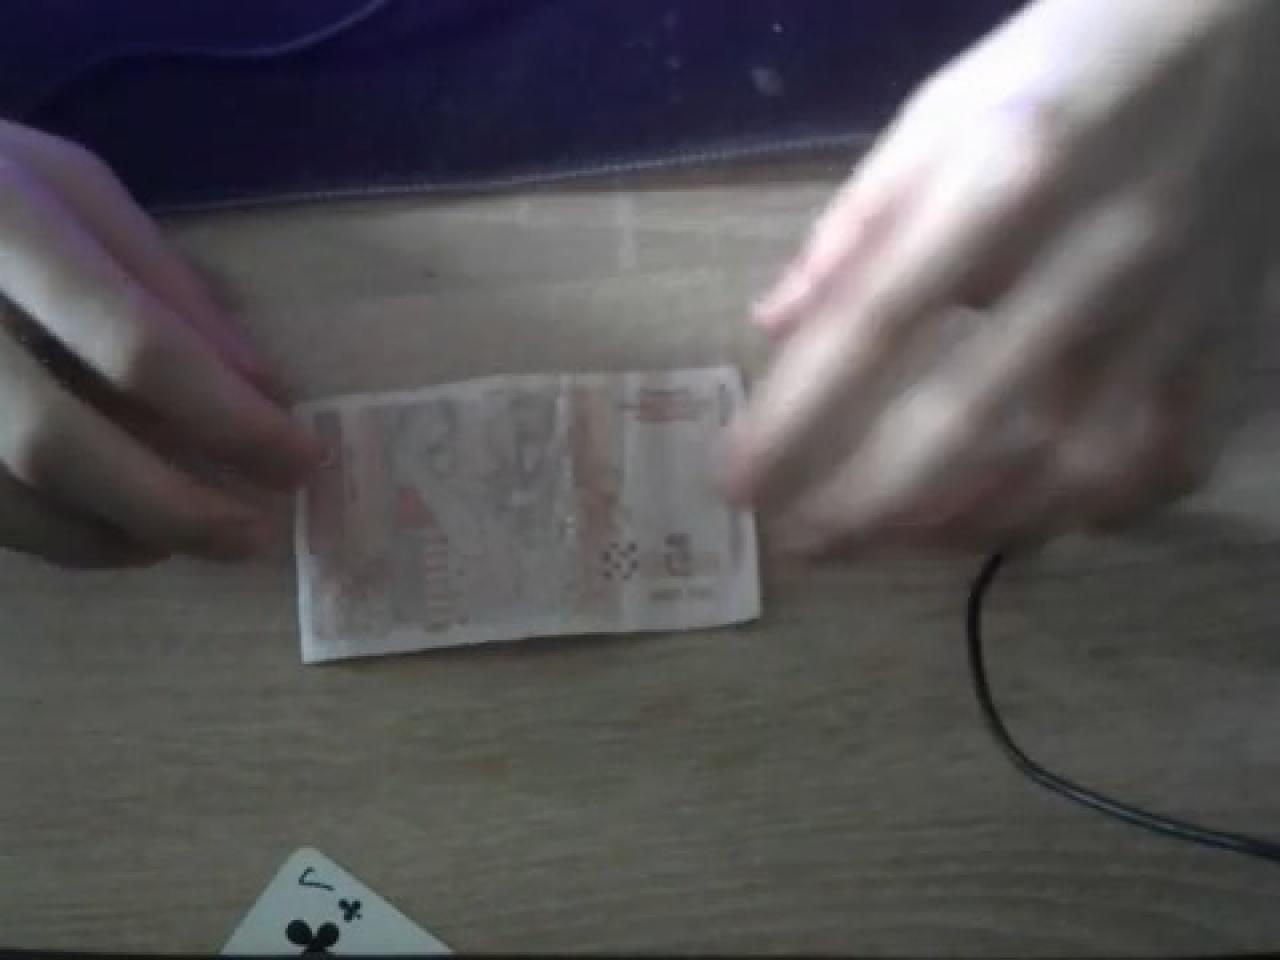5leva: (293, 365, 760, 670)
